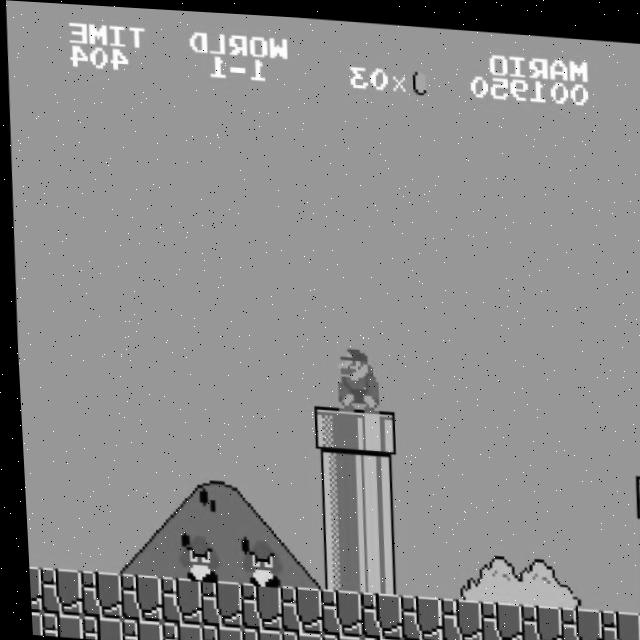0- big_mario: (333, 346, 379, 409)
14- pipe: (351, 541, 395, 590), (349, 450, 393, 498), (309, 448, 353, 496), (311, 539, 355, 587), (351, 495, 394, 544), (311, 493, 354, 542), (631, 514, 640, 560), (632, 559, 640, 606)
15- pipe_head: (348, 404, 392, 453), (308, 402, 352, 451), (630, 468, 640, 514)
17- undestructible_block: (392, 590, 436, 639), (352, 587, 396, 636), (312, 584, 356, 633), (272, 582, 316, 631), (232, 579, 276, 628), (192, 577, 236, 626), (152, 574, 196, 623), (112, 572, 156, 621), (72, 569, 116, 618), (432, 592, 476, 640), (33, 566, 76, 615), (472, 594, 516, 640), (512, 597, 556, 640), (552, 600, 596, 640), (592, 603, 636, 640), (74, 614, 116, 640), (34, 612, 76, 638), (114, 617, 156, 640), (154, 620, 196, 640), (194, 622, 236, 640), (234, 625, 276, 640), (23, 566, 36, 613), (274, 627, 316, 640), (314, 629, 356, 640), (354, 632, 396, 640), (633, 605, 640, 640), (25, 611, 35, 634), (394, 635, 436, 640), (434, 637, 476, 640), (474, 640, 516, 640)
8- goomba: (234, 533, 280, 585), (172, 530, 218, 582)
